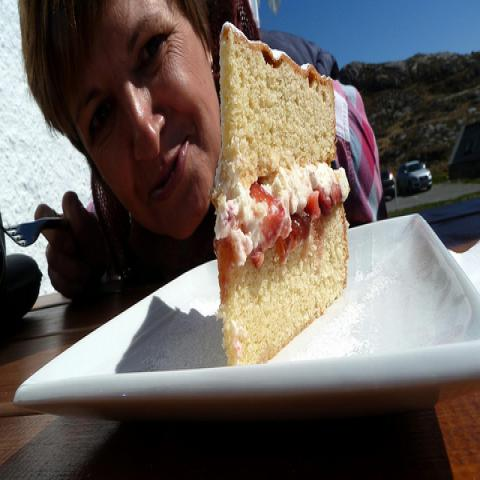car: (396, 160, 432, 196), (381, 169, 396, 197)
